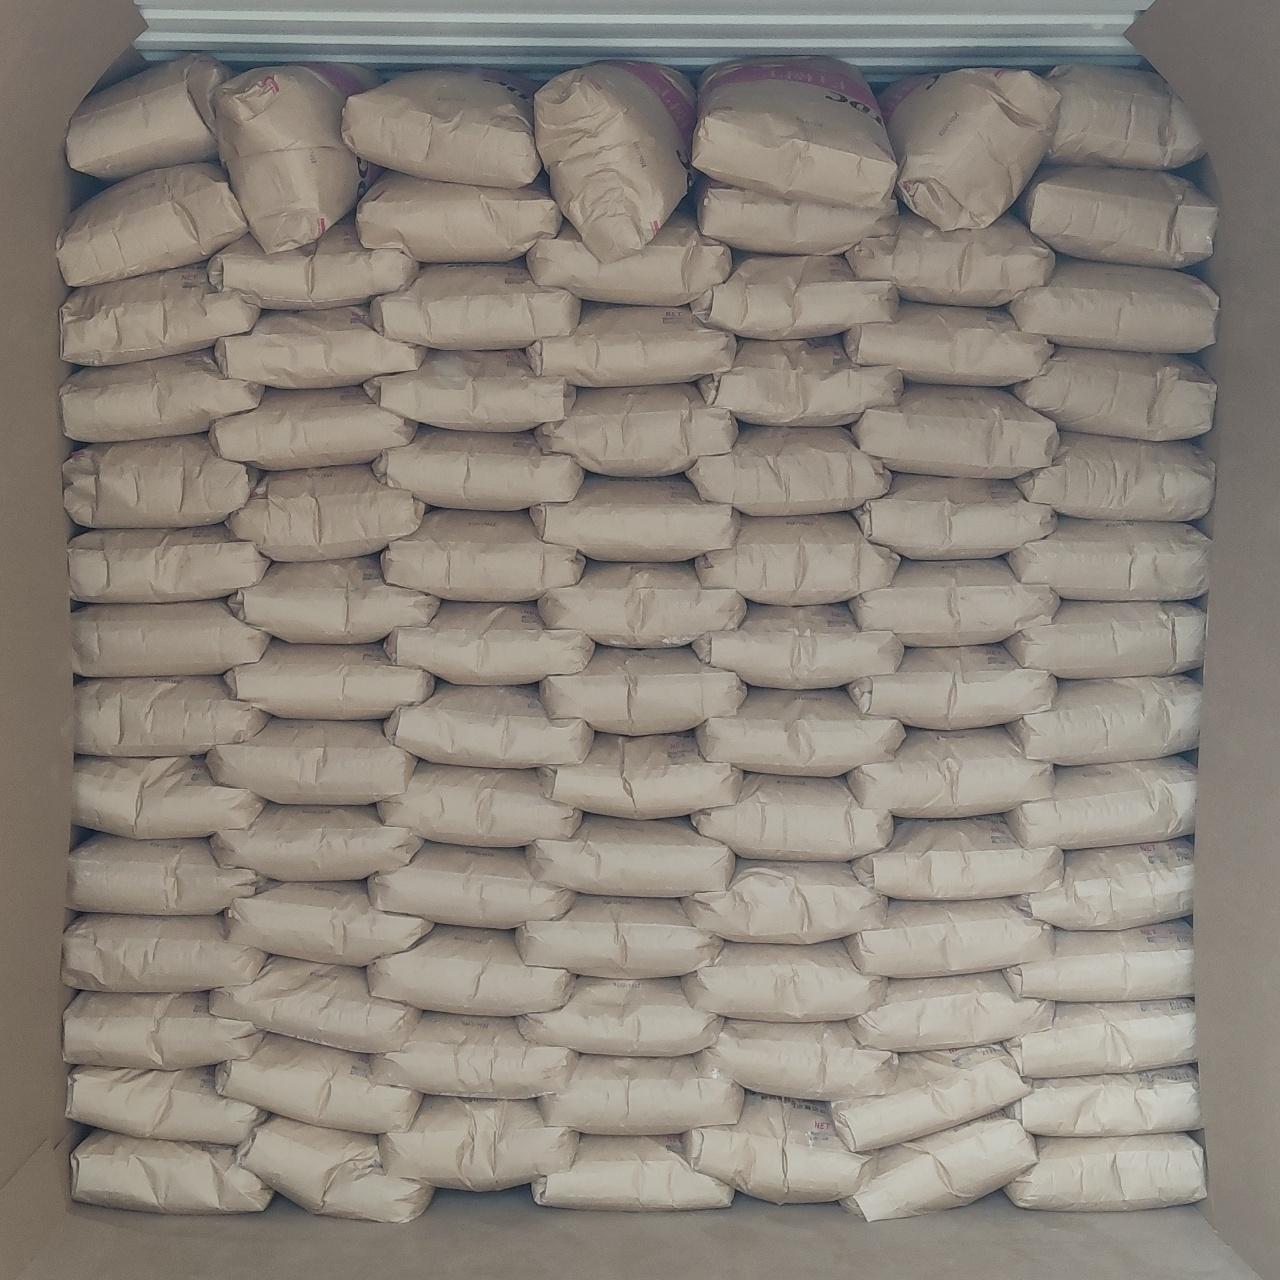sack: (214, 62, 379, 253), (692, 60, 894, 208), (540, 62, 692, 254), (882, 70, 1054, 228), (58, 164, 246, 286), (344, 70, 540, 182), (68, 54, 232, 178), (832, 1046, 1026, 1150), (238, 1118, 430, 1222), (842, 1114, 1034, 1218), (60, 264, 258, 364), (1016, 166, 1214, 266), (218, 1034, 420, 1132), (682, 1094, 868, 1200), (212, 958, 418, 1052), (1010, 258, 1216, 350), (210, 218, 418, 308), (528, 210, 730, 302), (536, 384, 734, 476), (1012, 348, 1214, 438), (852, 386, 1054, 476), (848, 214, 1054, 302), (382, 1096, 574, 1190), (368, 926, 572, 1014), (370, 262, 578, 348), (228, 466, 422, 558), (64, 434, 258, 526), (62, 350, 262, 438), (696, 514, 896, 602), (358, 172, 558, 260), (698, 688, 902, 774), (848, 728, 1052, 814), (384, 510, 582, 598), (228, 556, 438, 638), (688, 426, 888, 512), (542, 648, 742, 734), (532, 476, 740, 558), (694, 604, 902, 686), (1016, 432, 1214, 518), (852, 560, 1054, 644), (540, 562, 742, 646), (370, 842, 572, 926), (378, 762, 580, 846), (372, 1012, 574, 1096), (1008, 676, 1200, 764), (854, 816, 1060, 898), (700, 338, 900, 422), (386, 684, 590, 766), (388, 602, 592, 684), (216, 306, 424, 386), (366, 350, 574, 430), (856, 474, 1054, 558), (692, 774, 890, 858), (684, 860, 886, 942), (228, 882, 430, 964), (376, 428, 582, 508), (208, 720, 414, 800), (848, 646, 1054, 726), (528, 304, 734, 384), (540, 734, 740, 816), (1008, 758, 1194, 846), (210, 388, 414, 468), (846, 302, 1050, 382), (72, 1130, 270, 1212), (694, 256, 896, 336), (1044, 64, 1202, 166), (528, 816, 734, 894), (1008, 518, 1208, 598), (518, 896, 720, 974), (684, 942, 886, 1020), (226, 642, 432, 718), (852, 972, 1052, 1050), (70, 834, 262, 914), (540, 1056, 742, 1132), (698, 1020, 894, 1098), (214, 804, 420, 878), (64, 914, 264, 990), (520, 978, 720, 1054), (1016, 840, 1192, 926), (846, 900, 1050, 974), (64, 992, 260, 1068), (1002, 1000, 1196, 1076), (68, 1066, 262, 1142), (74, 758, 262, 836), (1006, 1134, 1204, 1208), (1008, 602, 1204, 676), (72, 600, 268, 674), (70, 526, 268, 598), (1004, 922, 1190, 998), (76, 678, 266, 752), (534, 1136, 732, 1206), (698, 184, 894, 252), (1006, 1066, 1198, 1134)
